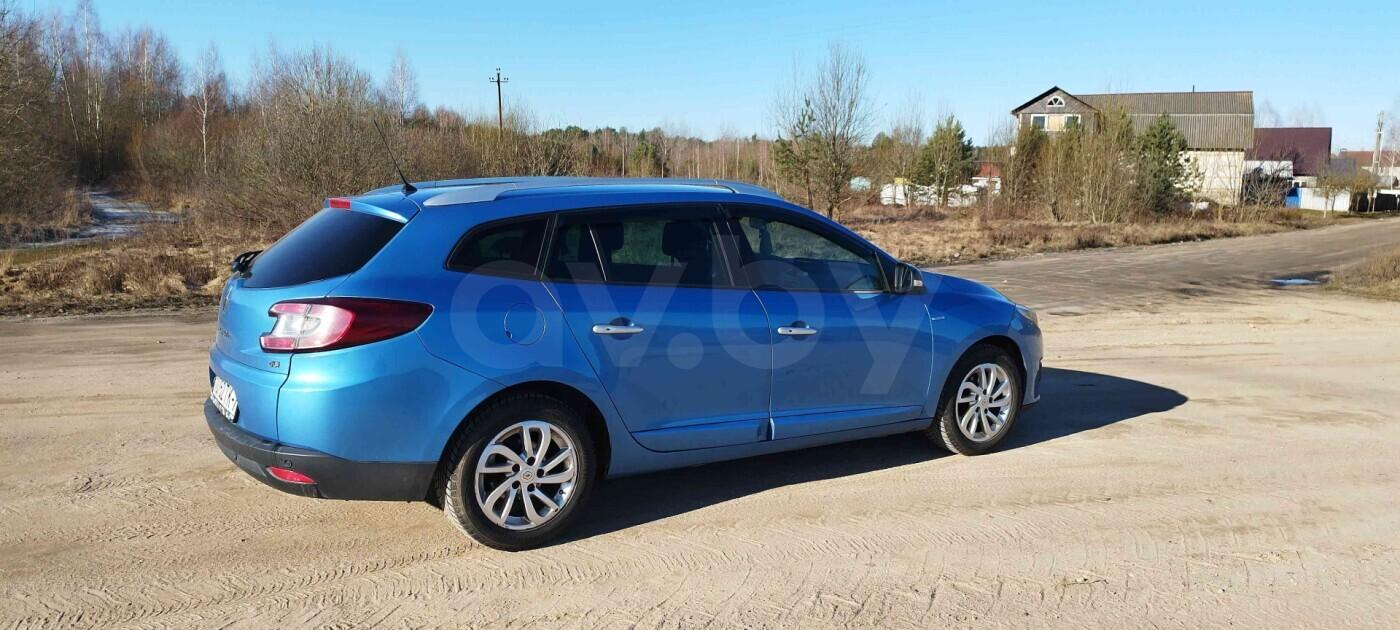Megane_2014-2016: (199, 177, 1051, 535)
